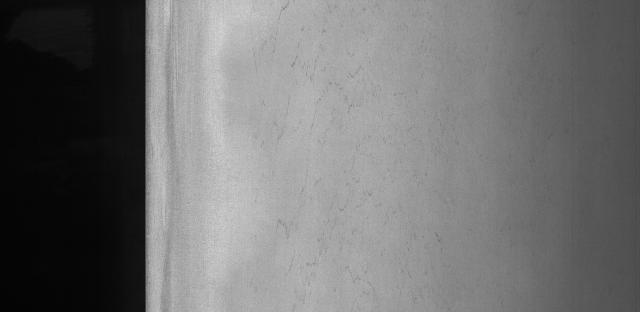silk_spot: (247, 0, 411, 303)
